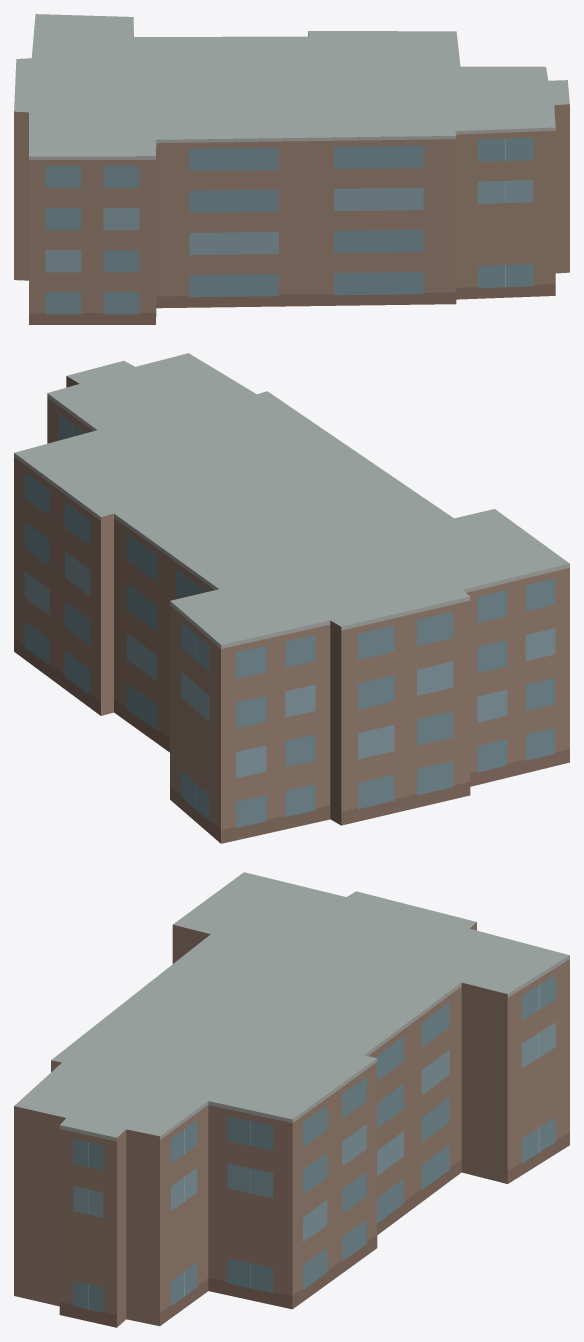
File: survey-upis-32490722.glb
3 views of the same model, one above another, from view 1: azimuth 30°, elevation 25°; view 2: azimuth 150°, elevation 25°; view 3: azimuth 270°, elevation 25° (orthographic). The views are drawn at different scales.
Parts seen in each view (by area): view 1: survey-upis-32490722.tmp; view 2: survey-upis-32490722.tmp; view 3: survey-upis-32490722.tmp.
Boxes of the visible parts, <box> form: survey-upis-32490722.tmp: <box>14,14,569,324</box>; survey-upis-32490722.tmp: <box>14,353,569,843</box>; survey-upis-32490722.tmp: <box>14,872,569,1327</box>.
Size of the model in its own units: 36.61 by 12.2 by 32.36.
